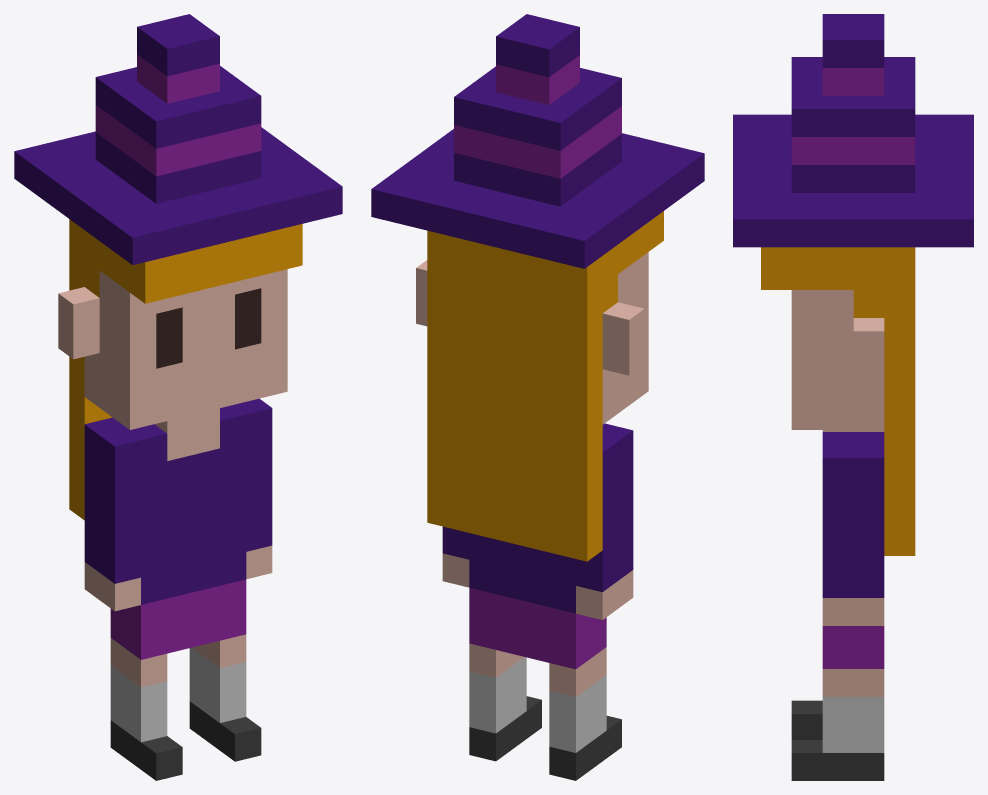
Rendered from girl_idle.fbx.
3 views of the same model, side by side, from view 1: azimuth 30°, elevation 25°; view 2: azimuth 150°, elevation 25°; view 3: azimuth 270°, elevation 25° (orthographic).
Visible parts, largest first — view 1: Cube.002; view 2: Cube.002; view 3: Cube.002.
Boxes of the visible parts, bbox=[...] form: Cube.002: bbox=[14, 14, 342, 780]; Cube.002: bbox=[371, 14, 704, 780]; Cube.002: bbox=[733, 14, 973, 780].
Bounding box in the file's own units: 1600 × 5200 × 1560.
